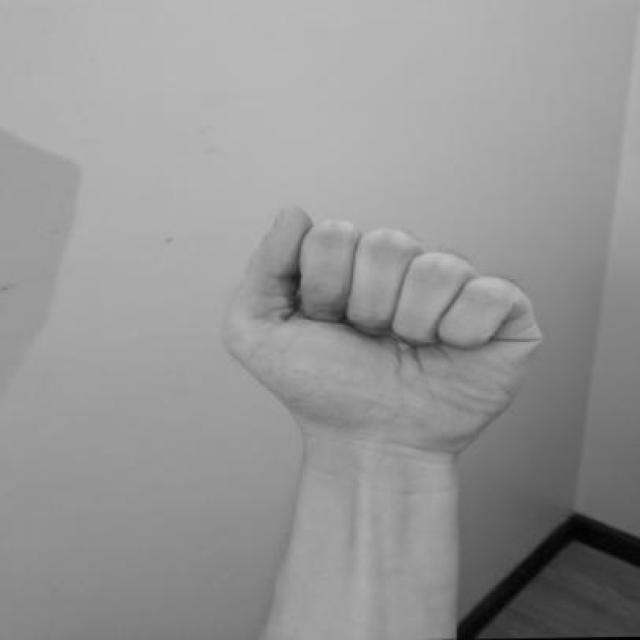A: (214, 198, 552, 456)
